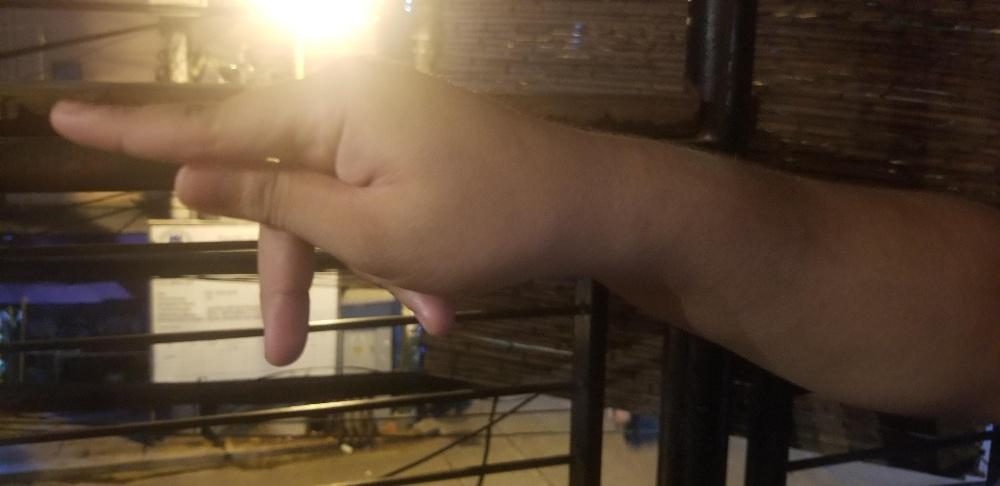p: (46, 56, 509, 366)
